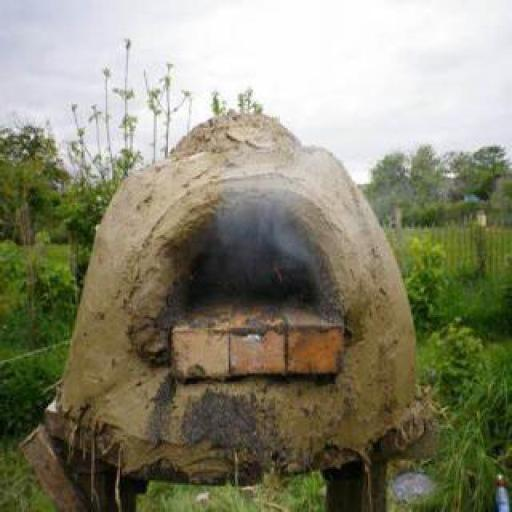smoke: (203, 166, 323, 294)
